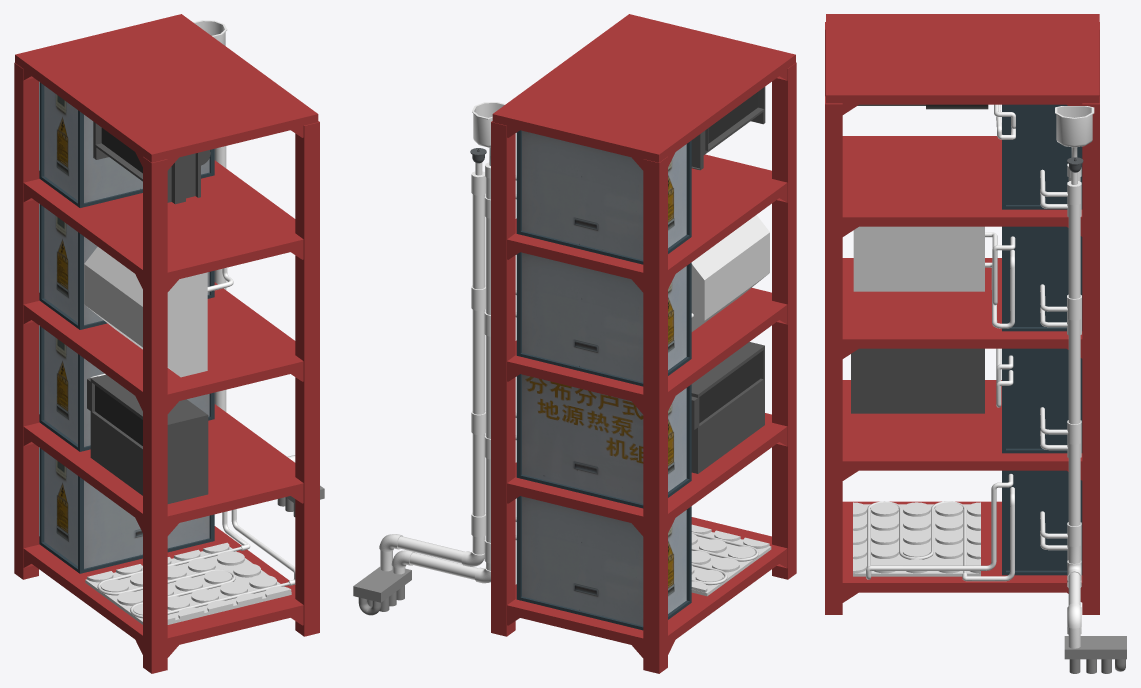
File: 展示架.fbx
3 renders of one model, left to right at view 1: azimuth 30°, elevation 25°; view 2: azimuth 150°, elevation 25°; view 3: azimuth 270°, elevation 25°, orthographic.
Visible parts, largest first — view 1: Box247, 对象406, Box291, Box290, Cylinder054, Box293, Box289, Box248, Box251, Box250, Box249, Line048 (+4 smaller); view 2: Box247, 对象406, Line046, Box291, Box290, Line045, Cylinder054, Box251, Box249, Box248, Box250, Cylinder045 (+5 smaller); view 3: Box247, 对象406, Box290, Box291, Line046, Cylinder054, Line135, Box289, Cylinder045, Line045, Line048, Box248 (+4 smaller).
Boxes of the visible parts, x1,y1,x2,y2 form: Box247: (14, 14, 319, 673); 对象406: (44, 86, 209, 568); Box291: (84, 247, 207, 377); Box290: (87, 374, 208, 503); Cylinder054: (87, 542, 291, 621); Box293: (93, 121, 210, 204); Box289: (85, 546, 291, 624); Box248: (39, 448, 214, 573); Box251: (39, 82, 214, 207); Box250: (39, 204, 214, 329); Box249: (39, 326, 214, 451); Line048: (97, 547, 289, 618); Box247: (491, 14, 796, 673); 对象406: (522, 130, 686, 625); Line046: (379, 162, 485, 571); Box291: (691, 215, 769, 331); Box290: (691, 342, 764, 473); Line045: (391, 102, 505, 583); Cylinder054: (691, 524, 769, 592); Box251: (516, 130, 691, 264); Box249: (516, 374, 691, 508); Box248: (516, 496, 691, 630); Box250: (516, 252, 691, 386); Cylinder045: (353, 567, 411, 615); Box247: (825, 14, 1099, 614); 对象406: (1006, 104, 1078, 570); Box290: (851, 348, 984, 413); Box291: (853, 226, 984, 291); Line046: (1067, 171, 1081, 648); Cylinder054: (853, 502, 980, 573); Line135: (866, 104, 1068, 581); Box289: (853, 504, 980, 576); Cylinder045: (1064, 636, 1126, 673); Line045: (1055, 106, 1094, 634); Line048: (867, 501, 966, 572); Box248: (1002, 470, 1082, 575).
Size of the model in its own units: 8.6 by 14.62 by 7.68.
11 materials, 3 textured.
